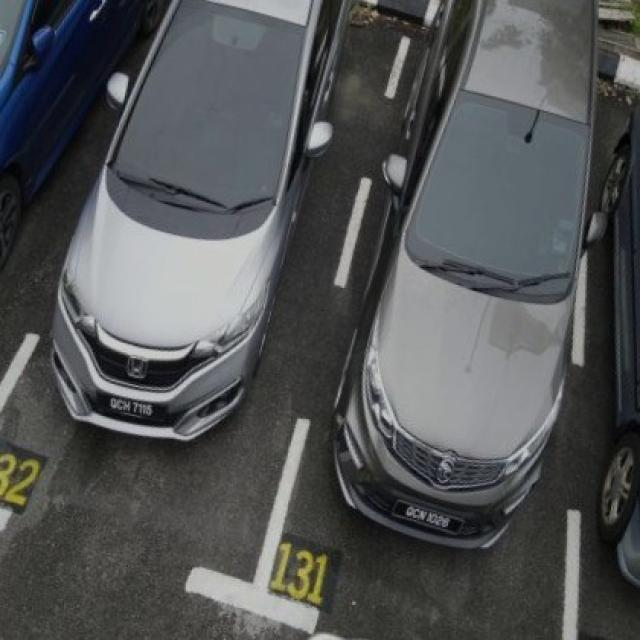Legalparking: (334, 0, 603, 547), (53, 0, 350, 439)
